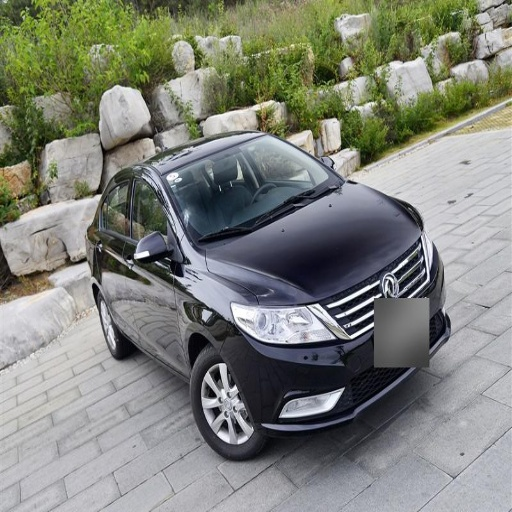front_bumper: (223, 251, 441, 434)
front_right_door: (128, 169, 178, 363)
front_right_light: (233, 300, 332, 345)
